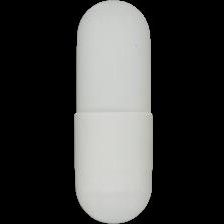68151-2875: (0, 0, 224, 224)
